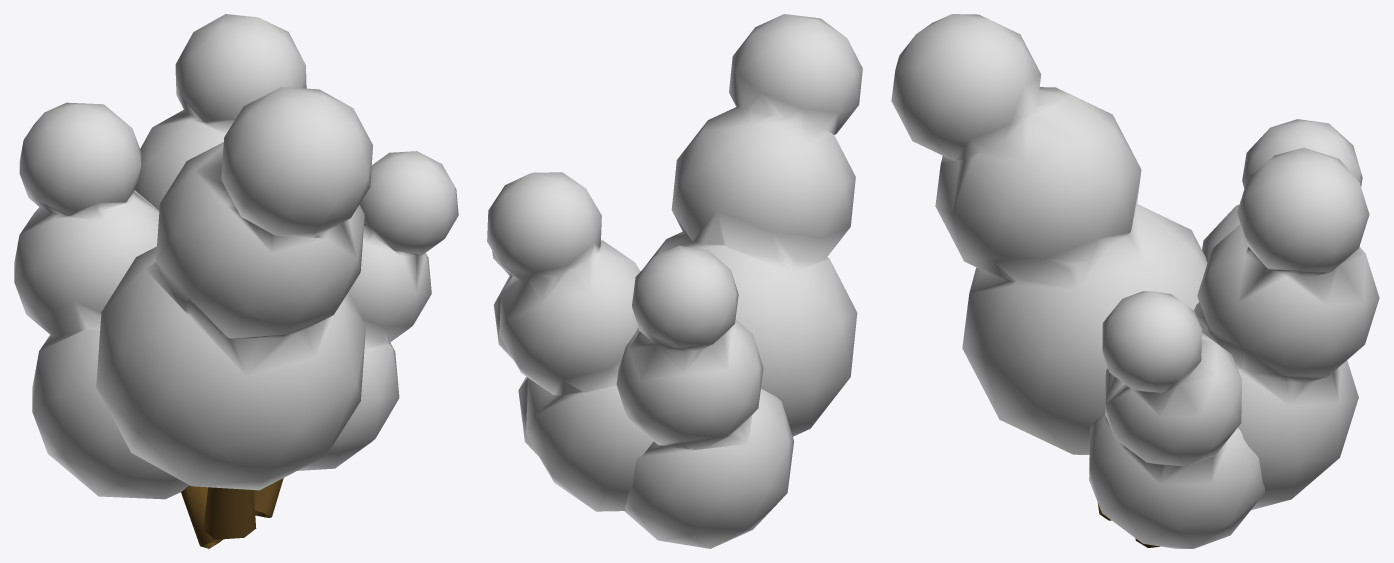
Rendered from cespuglio n3.fbx.
3 views of the same model, side by side, from view 1: azimuth 30°, elevation 25°; view 2: azimuth 150°, elevation 25°; view 3: azimuth 270°, elevation 25° (orthographic). The views are drawn at different scales.
Visible parts, largest first — view 1: cespuglio 3; view 2: cespuglio 3; view 3: cespuglio 3.
Boxes of the visible parts, x1,y1,x2,y2 form: cespuglio 3: (14, 14, 458, 548); cespuglio 3: (487, 14, 862, 548); cespuglio 3: (891, 14, 1379, 548).
Bounding box in the file's own units: 1345 × 1838 × 1587.
